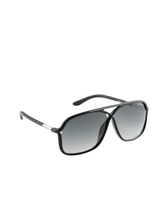glasses: (18, 91, 151, 154)
